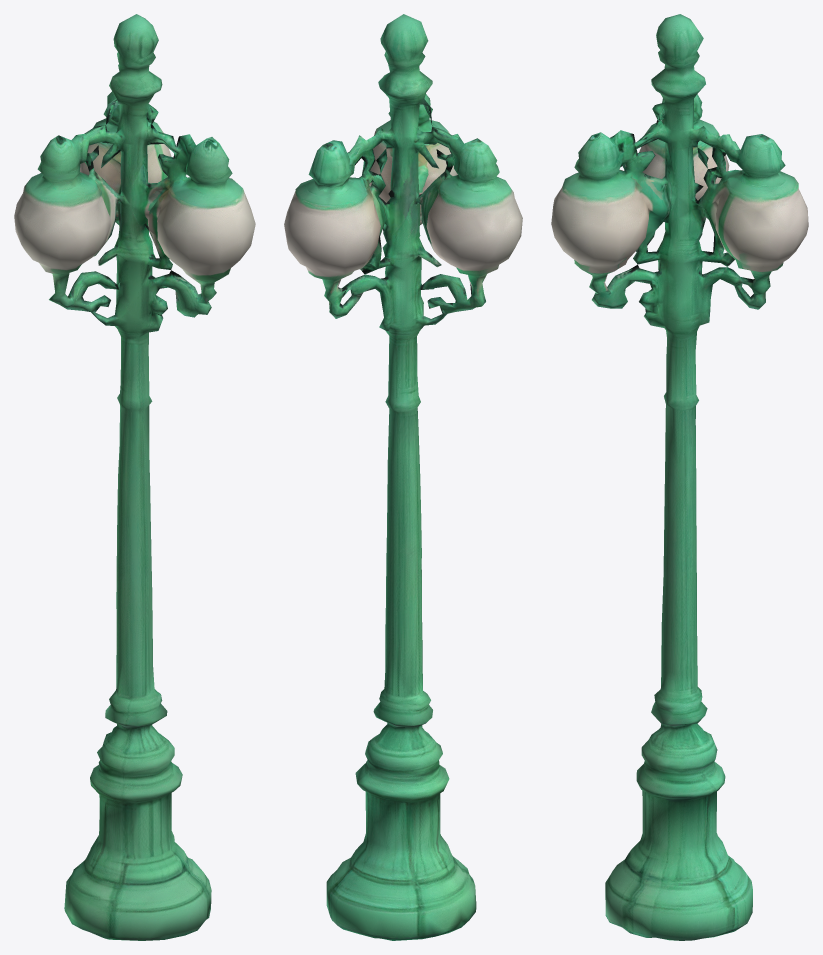
Rendered from lamp_paris.glb.
3 views of the same model, side by side, from view 1: azimuth 30°, elevation 25°; view 2: azimuth 150°, elevation 25°; view 3: azimuth 270°, elevation 25° (orthographic).
Bounding box in the file's own units: 0.439 × 2 × 0.5217.
Materials: 1 (1 with a texture image).
